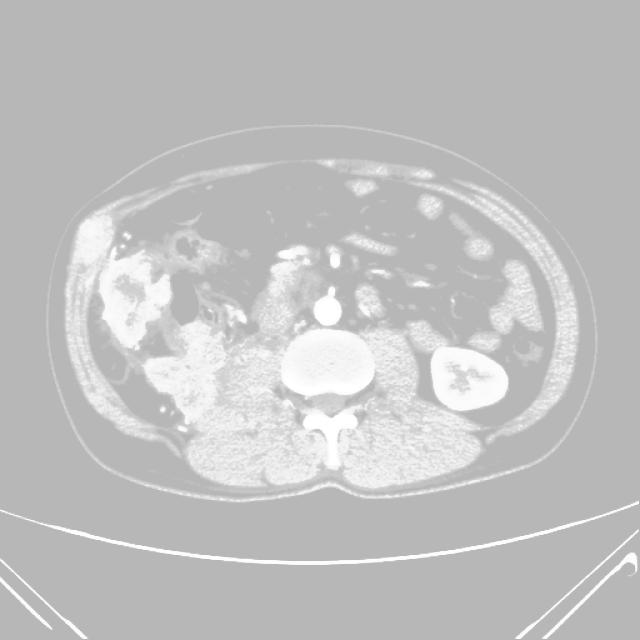TUMOR: (100, 208, 545, 439)
